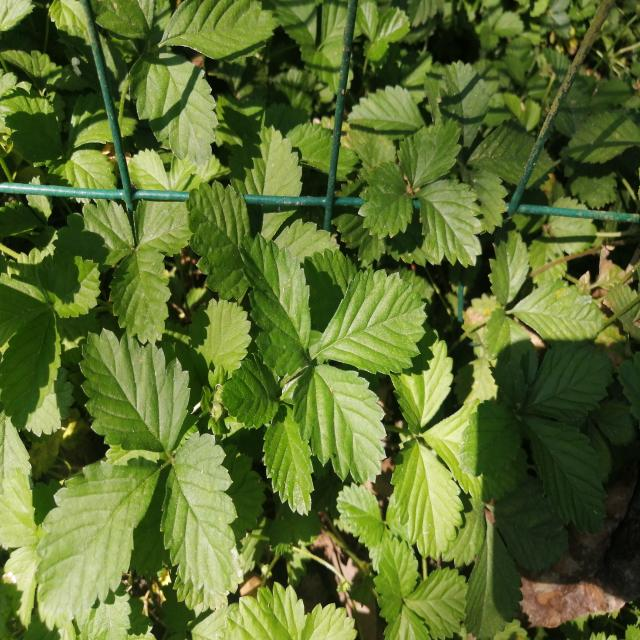Mock_strawberry: (223, 210, 422, 498), (30, 337, 251, 586)
